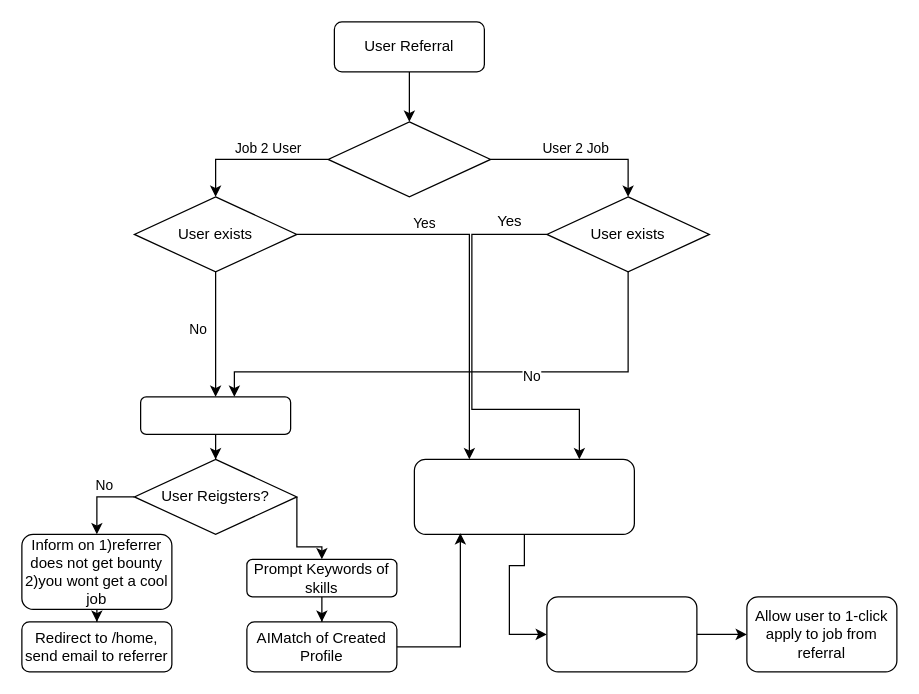
Some shapes in this 919 by 694 pixel diagram are drawn without their labels. Each missing label, with the centre of its shape:
"Calculate bounty for the refererring person based on AIMatch weights fit" goes at pixel 621 634.
"Compare Job Weights and Profile Weights, generate score (sqrt(delta1+delta2...))" goes at pixel 523 496.
"Refer Job To User?" goes at pixel 409 159.
"User registration" goes at pixel 215 415.
